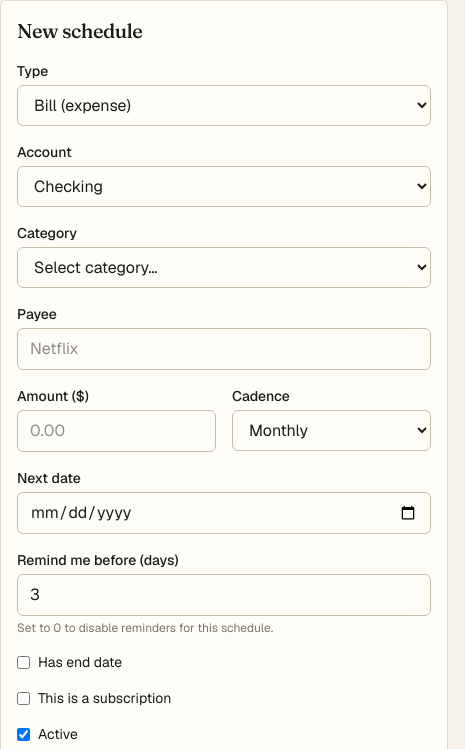
Test: RecurringForm › offers the subscription flag for expenses but hides it for income
Expected: the checkbox labelled "This is a subscription" is shown, [17,692,30,704]
Step 1. Select "Scheduled income" in the dropdown labelled "Type" → (224, 106), box [17,85,431,126]
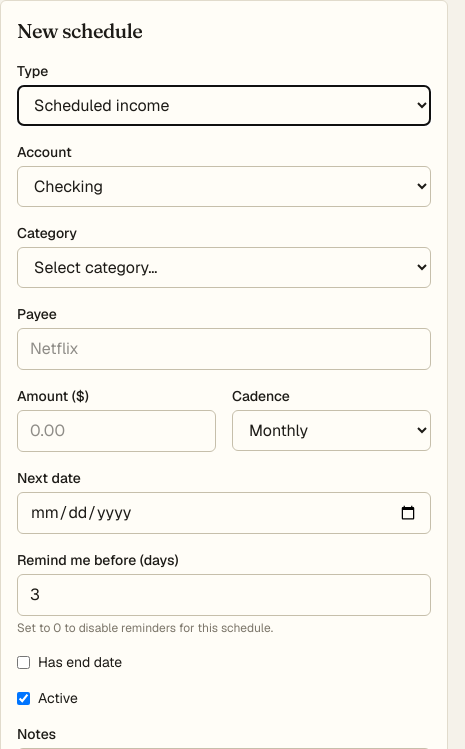
Expected: the label labelled "subscription" is gone
